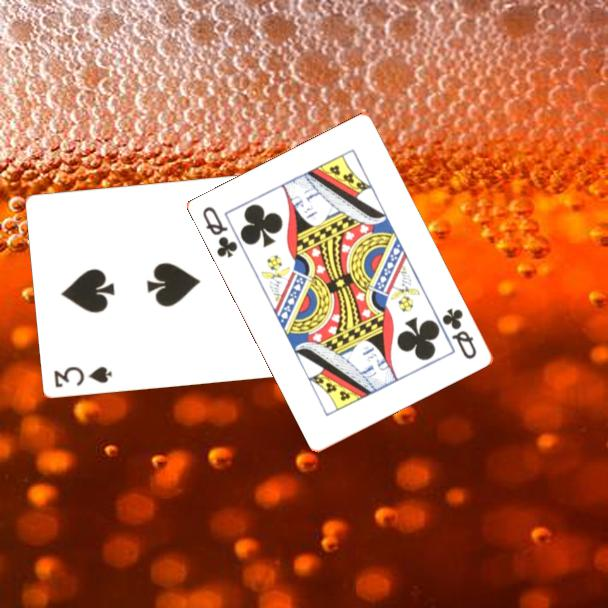c12: (199, 203, 241, 261), (439, 305, 480, 362)
s03: (51, 363, 115, 390)
